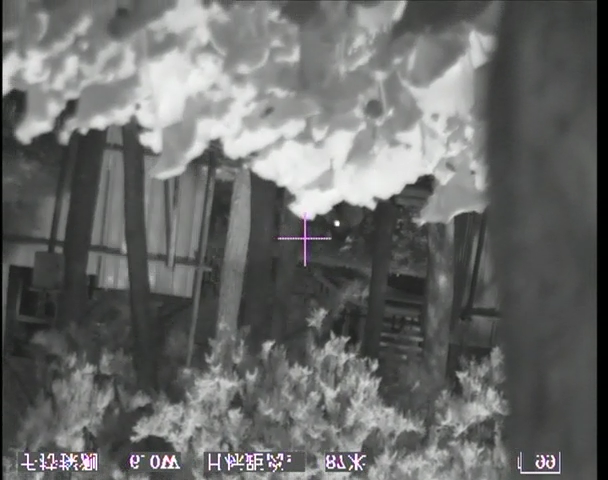my: (332, 218, 343, 228)
